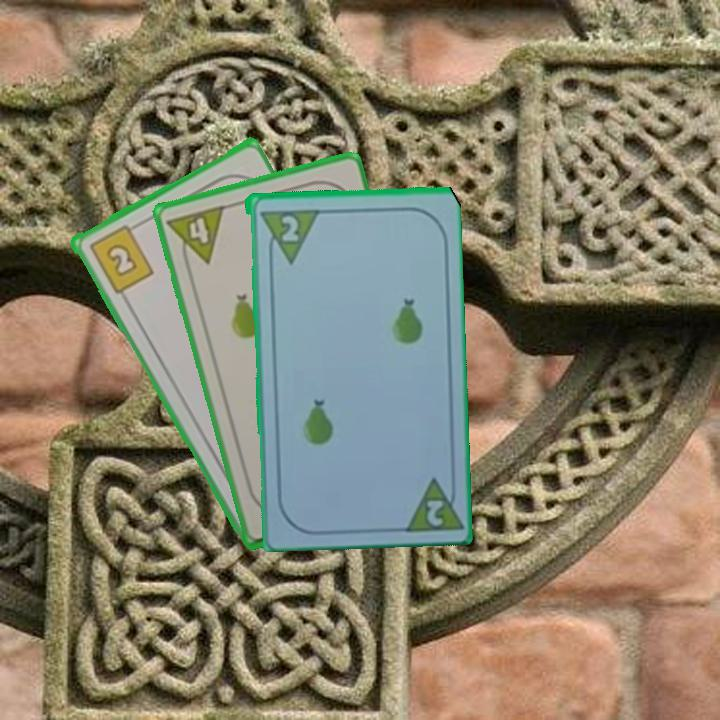2b: (85, 219, 156, 296)
2p: (397, 470, 462, 533), (256, 205, 319, 266)
4p: (163, 201, 227, 272)
